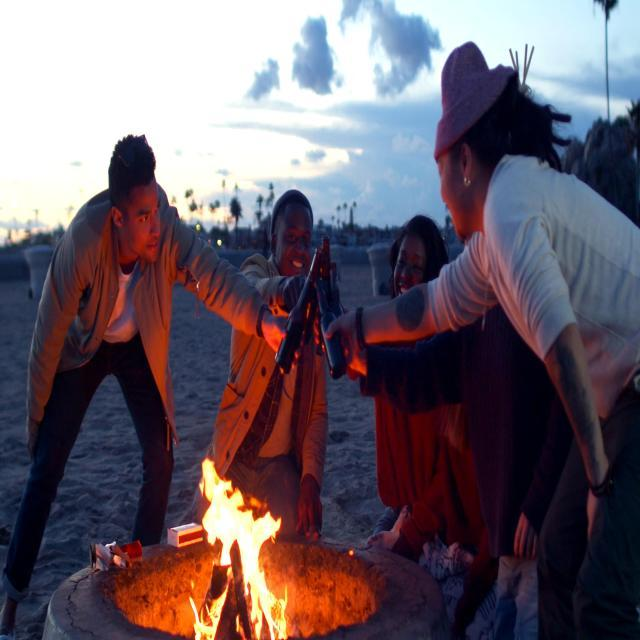Fire: (178, 451, 294, 634)
